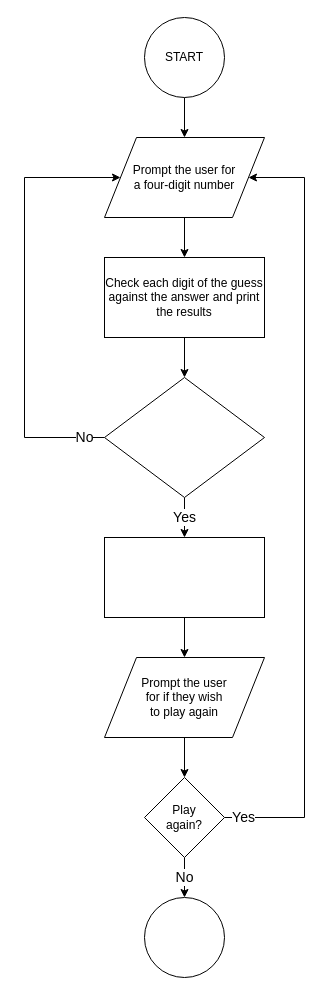
Image size: 330x995. Some labels were removed from this diagram. The centre of each missing label's shape, as x and y in pixels:
END: (x=184, y=937)
Inform the user that they won, and ask if they wish to play again: (x=184, y=577)
Were there four exact matches?: (x=184, y=437)
